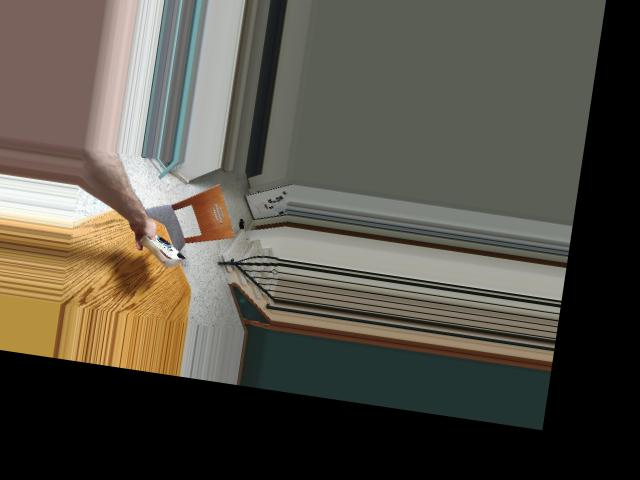cheese: (135, 229, 189, 270)
